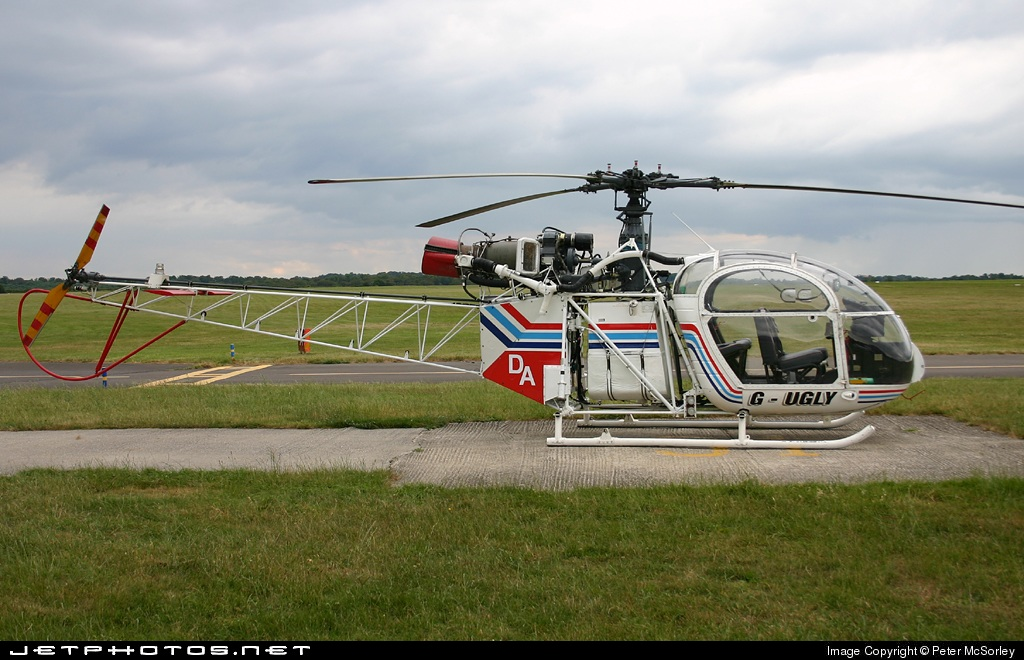number: (747, 390, 838, 410)
